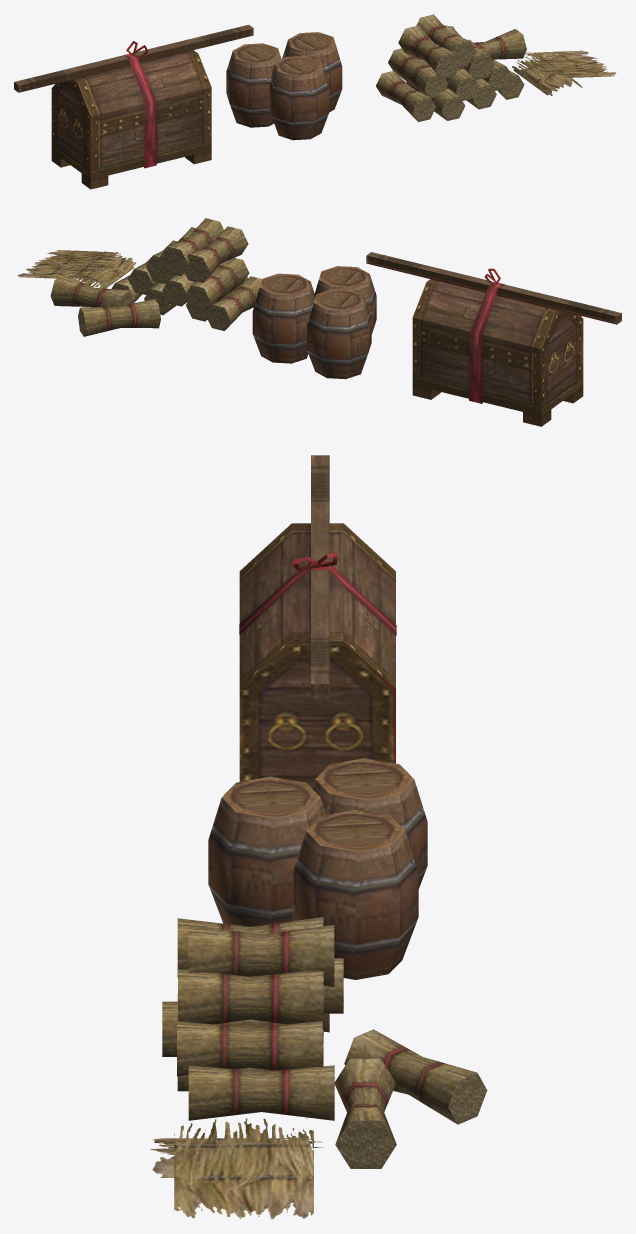
File: s7_wujian_.FBX
The picture shows the model from 3 angles, top to bottom: view 1: azimuth 30°, elevation 25°; view 2: azimuth 150°, elevation 25°; view 3: azimuth 270°, elevation 25°; orthographic projection. The views are drawn at different scales.
Parts seen in each view (by area): view 1: s7_pve_fight_wooden, s7_pve_fight_hay, s7_pve_fight_cask; view 2: s7_pve_fight_wooden, s7_pve_fight_hay, s7_pve_fight_cask; view 3: s7_pve_fight_hay, s7_pve_fight_wooden, s7_pve_fight_cask.
Part boxes in pixels (box(x1,y1,x2,y2)): s7_pve_fight_wooden: box(14, 24, 253, 189); s7_pve_fight_hay: box(376, 14, 616, 122); s7_pve_fight_cask: box(226, 32, 342, 140); s7_pve_fight_wooden: box(366, 252, 621, 426); s7_pve_fight_hay: box(17, 218, 261, 336); s7_pve_fight_cask: box(252, 266, 376, 379); s7_pve_fight_hay: box(150, 917, 487, 1219); s7_pve_fight_wooden: box(239, 455, 396, 788); s7_pve_fight_cask: box(208, 758, 427, 979).
Bounding box in the file's own units: 3.8 × 0.7452 × 0.9802.
